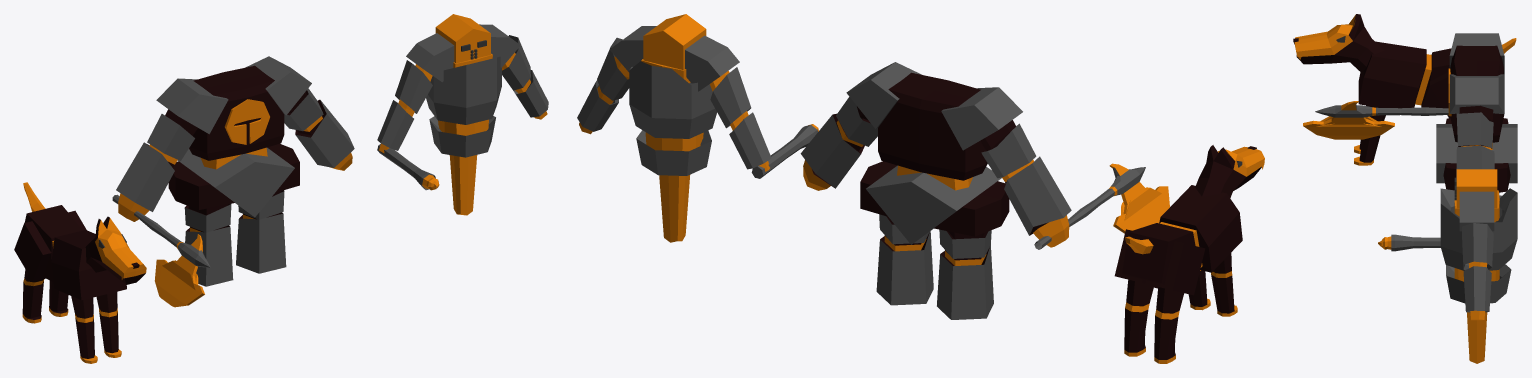
The model's file is FireMinions.fbx.
3 views of the same model, side by side, from view 1: azimuth 30°, elevation 25°; view 2: azimuth 150°, elevation 25°; view 3: azimuth 270°, elevation 25° (orthographic). The views are drawn at different scales.
Parts seen in each view (by area): view 1: HeavyGuard, LightGuard, Dog, Axe, Torch; view 2: HeavyGuard, LightGuard, Dog, Axe, Torch; view 3: LightGuard, HeavyGuard, Dog, Axe, Torch.
Boxes of the visible parts, x1=… form: HeavyGuard: x1=116, y1=56, x2=354, y2=286; LightGuard: x1=377, y1=14, x2=548, y2=215; Dog: x1=14, y1=182, x2=146, y2=363; Axe: x1=112, y1=194, x2=210, y2=307; Torch: x1=377, y1=144, x2=439, y2=190; HeavyGuard: x1=800, y1=62, x2=1071, y2=319; LightGuard: x1=577, y1=14, x2=771, y2=242; Dog: x1=1114, y1=145, x2=1264, y2=363; Axe: x1=1034, y1=163, x2=1169, y2=249; Torch: x1=751, y1=124, x2=818, y2=178; LightGuard: x1=1440, y1=169, x2=1517, y2=363; HeavyGuard: x1=1436, y1=33, x2=1517, y2=194; Dog: x1=1293, y1=14, x2=1516, y2=165; Axe: x1=1303, y1=101, x2=1504, y2=139; Torch: x1=1378, y1=234, x2=1440, y2=251.
Bounding box in the file's own units: 784 × 276 × 288.
